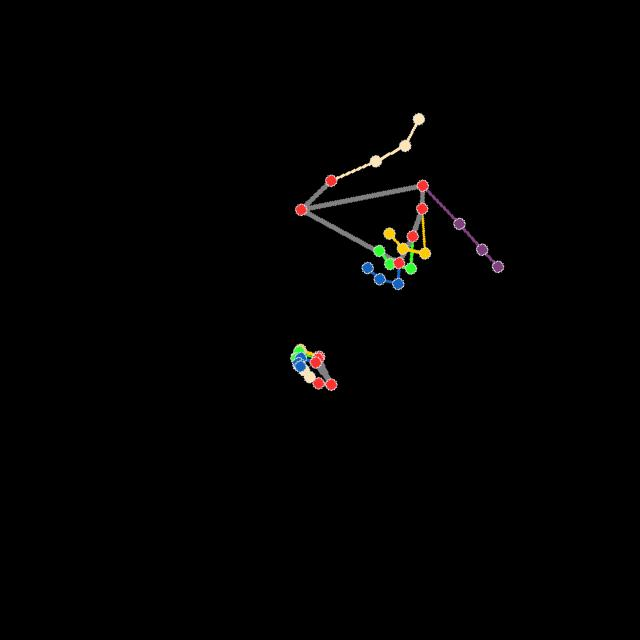gun: (293, 107, 507, 293)
